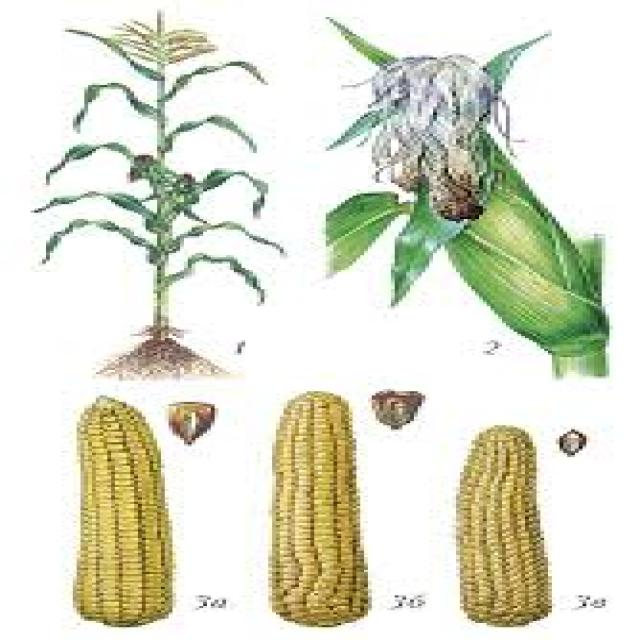corn: (243, 381, 415, 631), (69, 392, 212, 624), (432, 412, 580, 628)
